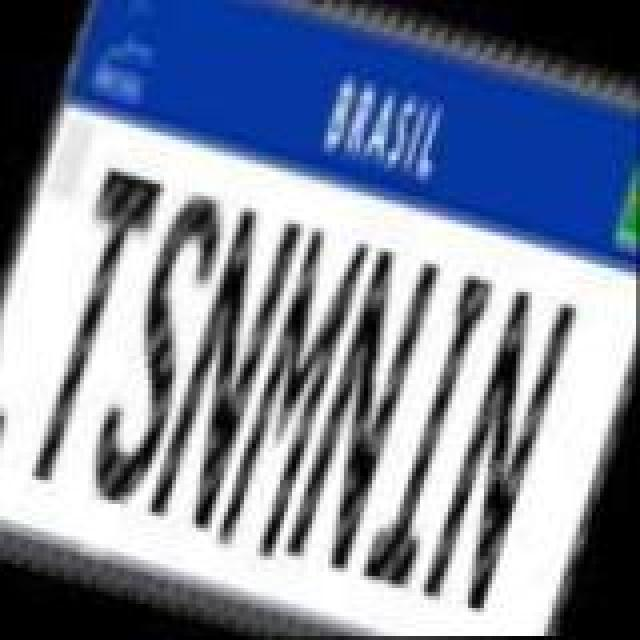I: (356, 262, 504, 598)
M: (210, 216, 374, 564)
N: (142, 192, 306, 532), (280, 238, 444, 578), (416, 282, 580, 622)
S: (76, 176, 236, 516)
T: (8, 160, 164, 496)
